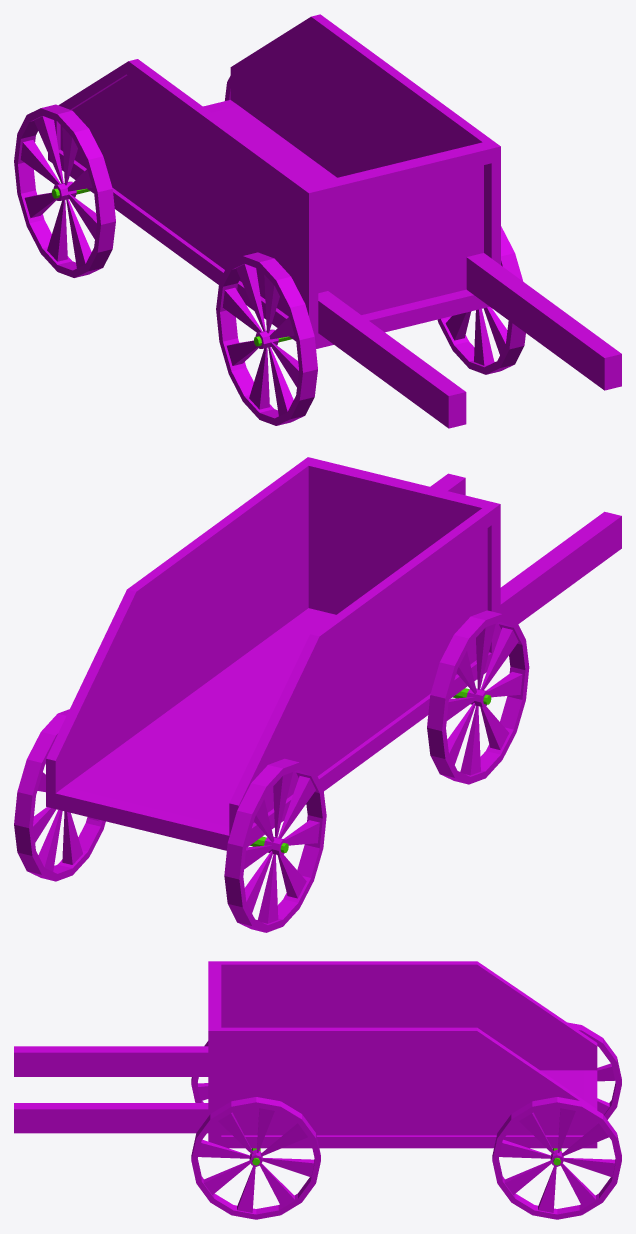
The model's file is cart 1.fbx.
3 views of the same model, one above another, from view 1: azimuth 30°, elevation 25°; view 2: azimuth 150°, elevation 25°; view 3: azimuth 270°, elevation 25° (orthographic). The views are drawn at different scales.
Visible parts, largest first — view 1: Cart, WheelsFront, WheelsBack; view 2: Cart, WheelsBack, WheelsFront; view 3: Cart, WheelsBack, WheelsFront.
Part boxes in pixels (x1,y1,x2,y2): Cart: [48, 14, 621, 428]; WheelsFront: [216, 226, 525, 425]; WheelsBack: [14, 76, 230, 277]; Cart: [46, 457, 621, 850]; WheelsBack: [14, 709, 326, 932]; WheelsFront: [427, 610, 529, 784]; Cart: [14, 961, 597, 1148]; WheelsBack: [492, 1022, 621, 1219]; WheelsFront: [191, 1041, 320, 1219].
Size of the model in its own units: 153 by 156 by 469.
